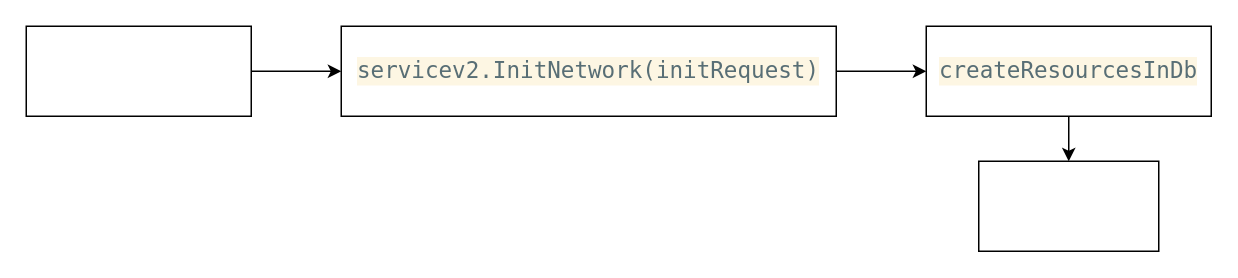
This 1238x278 diagram has some shape labels left out. Here are the shapes that lost their labels. From the top down, the box of each, then its label:
(25, 25, 251, 116): networkv2.Init
(977, 160, 1159, 251): createOrgs
